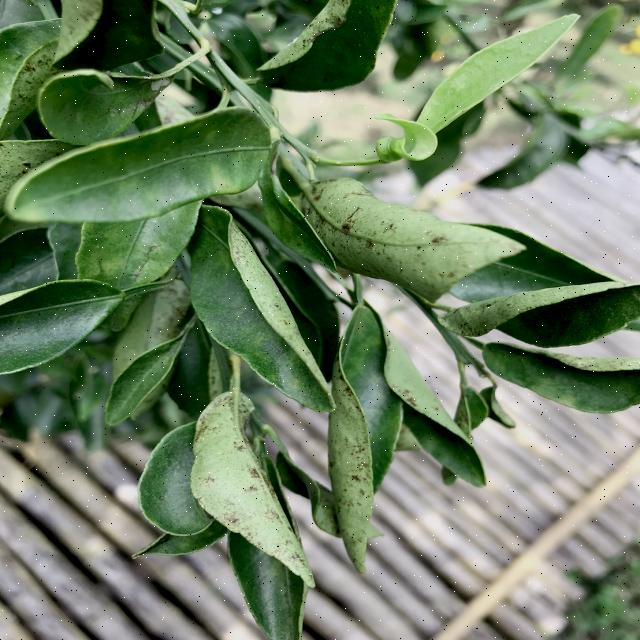melanose: (295, 170, 535, 312), (189, 390, 323, 598), (314, 302, 315, 308)
